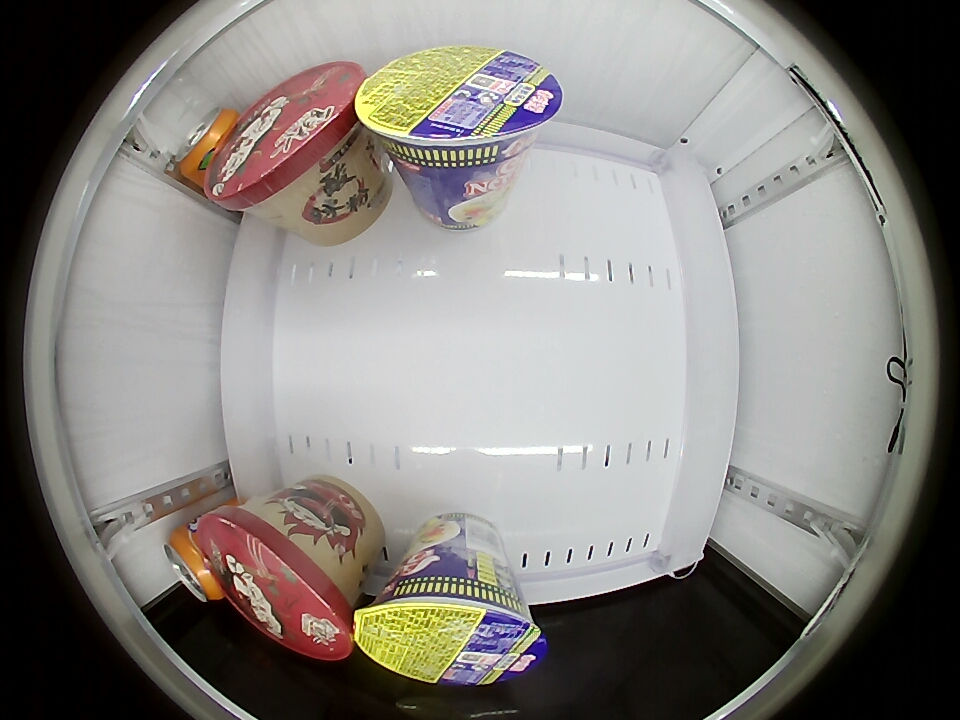fenda: (173, 106, 236, 184), (164, 524, 222, 604)
heweidao: (356, 45, 563, 175), (354, 565, 547, 687)
suanlafen: (198, 502, 357, 661), (211, 60, 364, 212)
